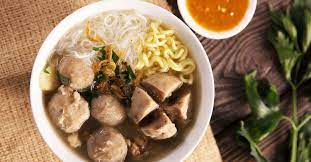bakso: (44, 25, 201, 160)
